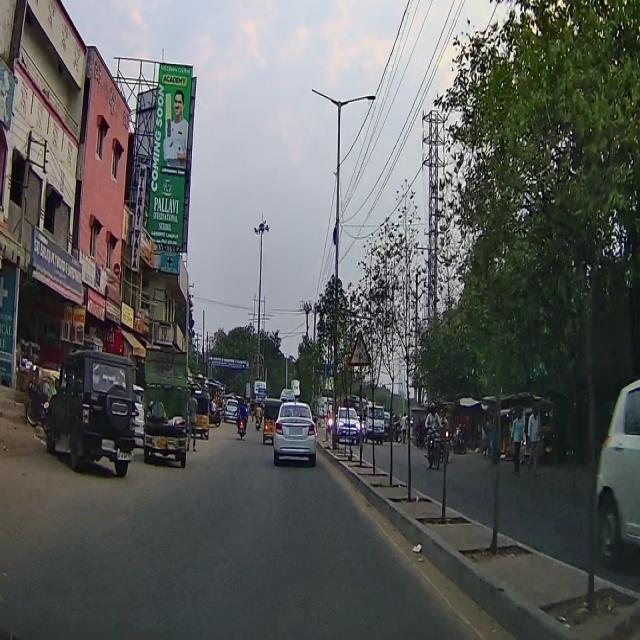gap-in-median: (348, 323, 372, 370)
